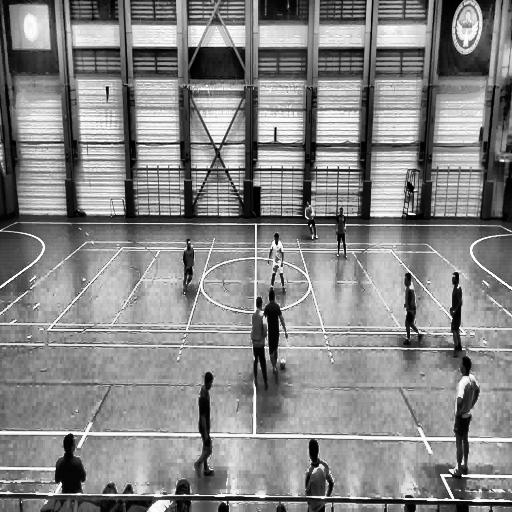ball: (280, 358, 286, 369)
player: (447, 356, 479, 476), (262, 286, 287, 380), (304, 440, 334, 510), (249, 296, 269, 394), (197, 375, 216, 472), (403, 274, 423, 346), (449, 272, 463, 358), (267, 231, 285, 292), (182, 237, 195, 294), (336, 208, 348, 256), (304, 200, 317, 239)
